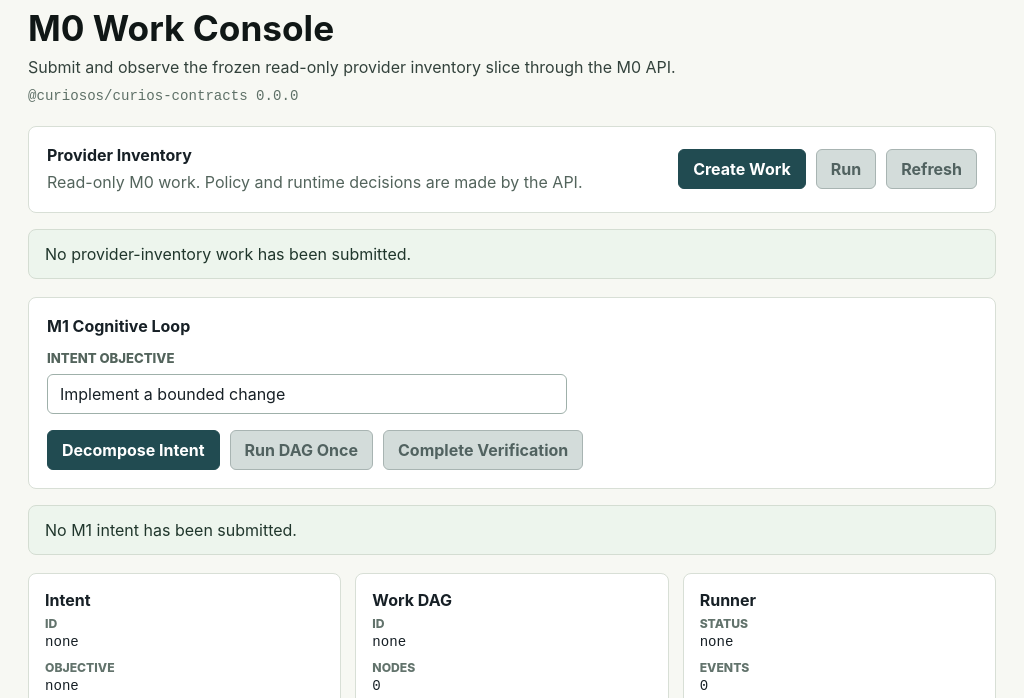
Scenario: TASK-M1-014 web cognitive loop console › renders WAITING runner outcomes as M1 domain truth
Click the button "Decompose Intent".
click(133, 450)  # box 47,430 -> 220,470
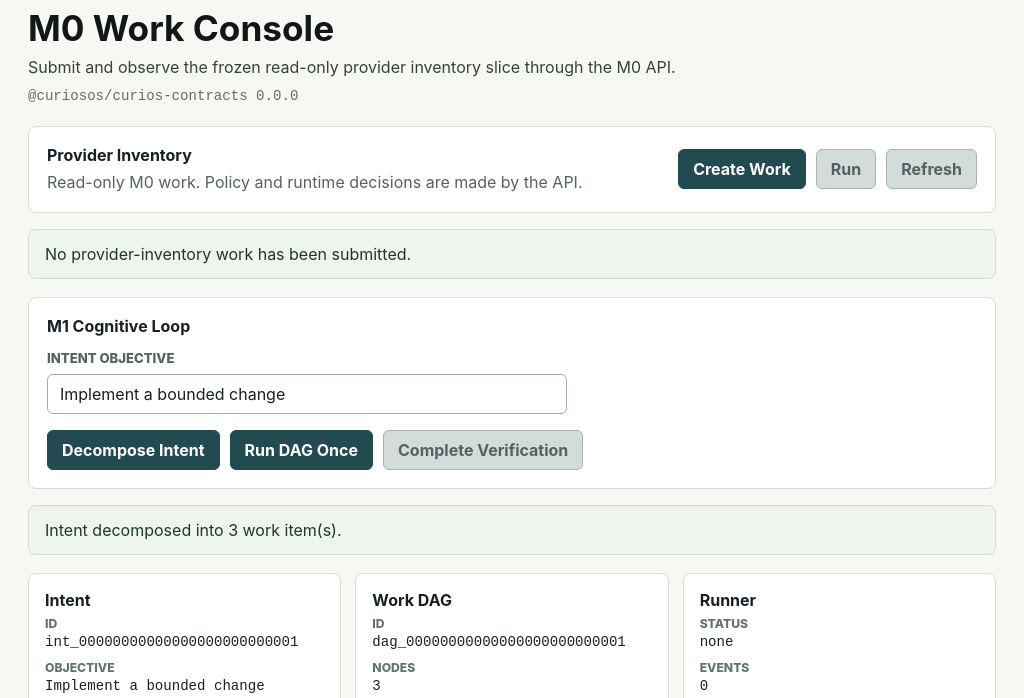
Click the button "Run DAG Once".
click(301, 450)  # box 230,430 -> 373,470
(page scrolled)
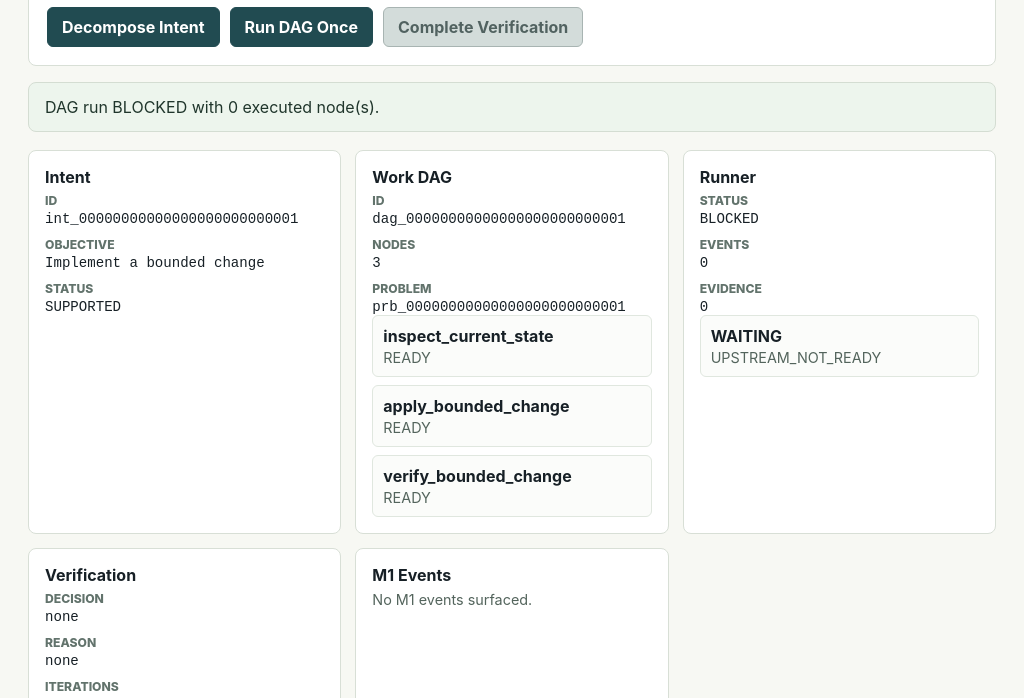
Expected: the element that starts with "Runner" shows "WAITING", 711,326 -> 782,346
Expected: the element that starts with "Runner" shows "UPSTREAM_NOT_READY", 711,349 -> 881,366
Expected: the text "DAG run BLOCKED with 0 executed node(s)." is shown, 28,82 -> 996,132
